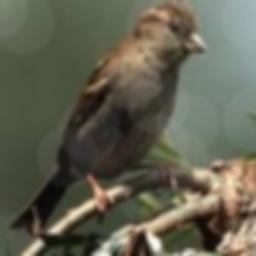Sparrow: (10, 0, 206, 236)
